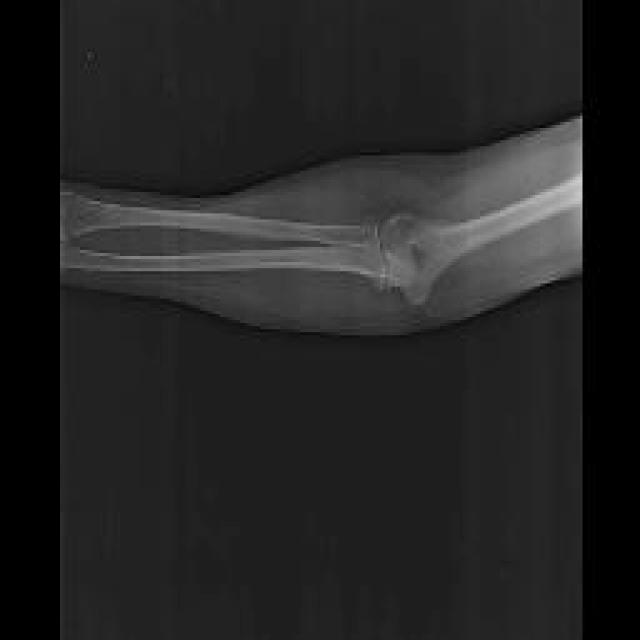normal: (57, 173, 584, 307)
